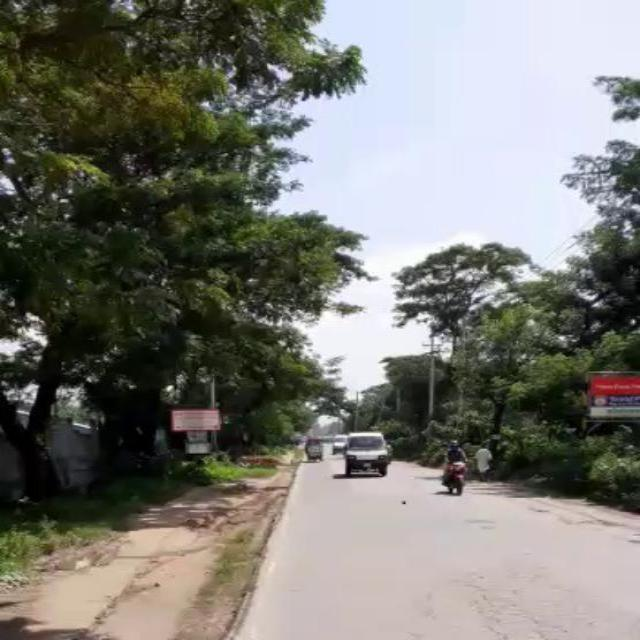10: (436, 454, 465, 491)
19: (340, 430, 385, 470), (326, 432, 342, 450)
Car: (300, 436, 324, 459)
